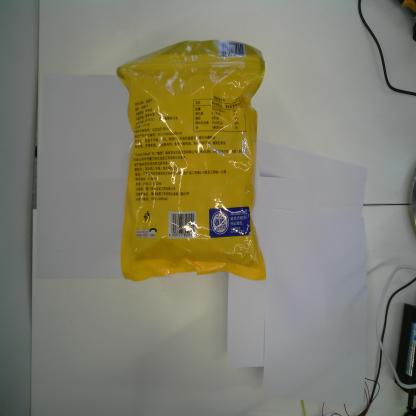Dried Food: (115, 37, 269, 282)
